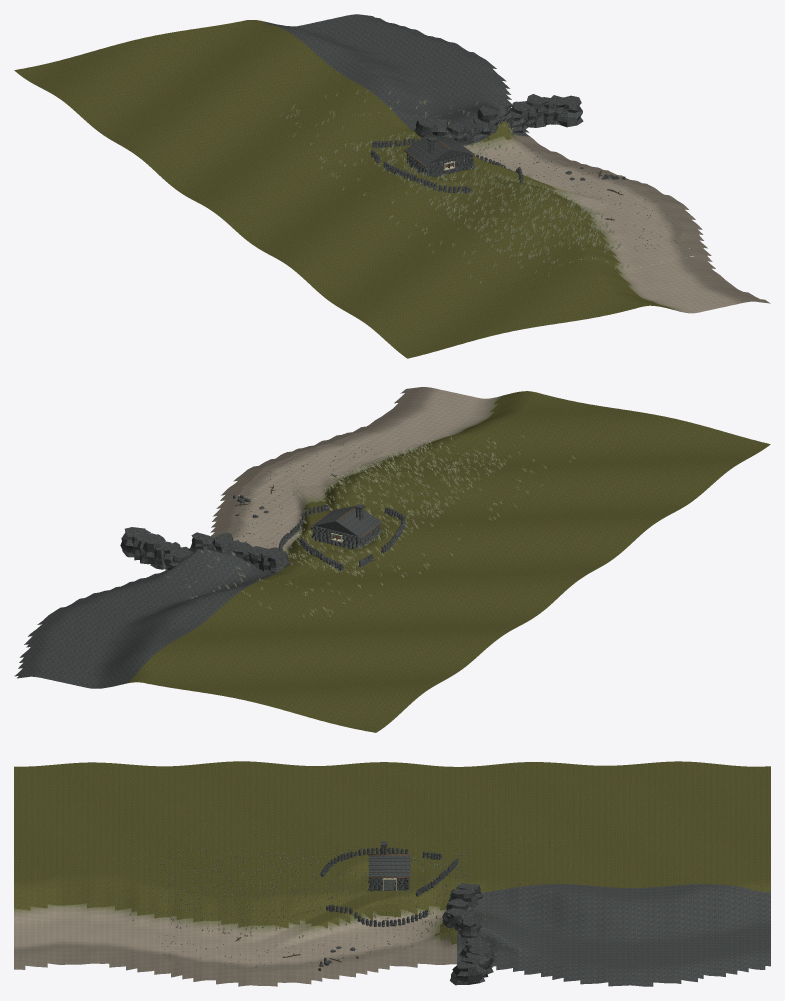
Rendered from ireland.glb.
The picture shows the model from 3 angles, top to bottom: view 1: azimuth 30°, elevation 25°; view 2: azimuth 150°, elevation 25°; view 3: azimuth 270°, elevation 25°; orthographic projection. The views are drawn at different scales.
Visible parts, largest first — view 1: DuneTurf, Stone, Sand, Grass, GrassDry; view 2: DuneTurf, Stone, Sand, Grass, GrassDry; view 3: DuneTurf, Stone, Sand, Grass, GrassDry.
Part boxes in pixels (x1,y1,x2,y2): DuneTurf: [14, 20, 673, 358]; Stone: [263, 14, 676, 252]; Sand: [463, 127, 770, 313]; Grass: [279, 90, 628, 283]; GrassDry: [287, 92, 630, 282]; DuneTurf: [128, 391, 770, 732]; Stone: [14, 442, 405, 688]; Sand: [210, 387, 501, 557]; Grass: [167, 434, 574, 617]; GrassDry: [189, 435, 575, 617]; DuneTurf: [14, 761, 770, 944]; Stone: [159, 841, 770, 986]; Sand: [14, 903, 456, 986]; Grass: [114, 824, 573, 944]; GrassDry: [115, 824, 572, 944].
Bounding box in the file's own units: 80.77 × 11.52 × 135.
Materials: 9 (6 with a texture image).
